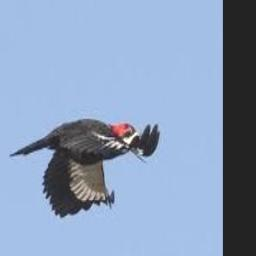Woodpecker: (8, 118, 159, 218)
